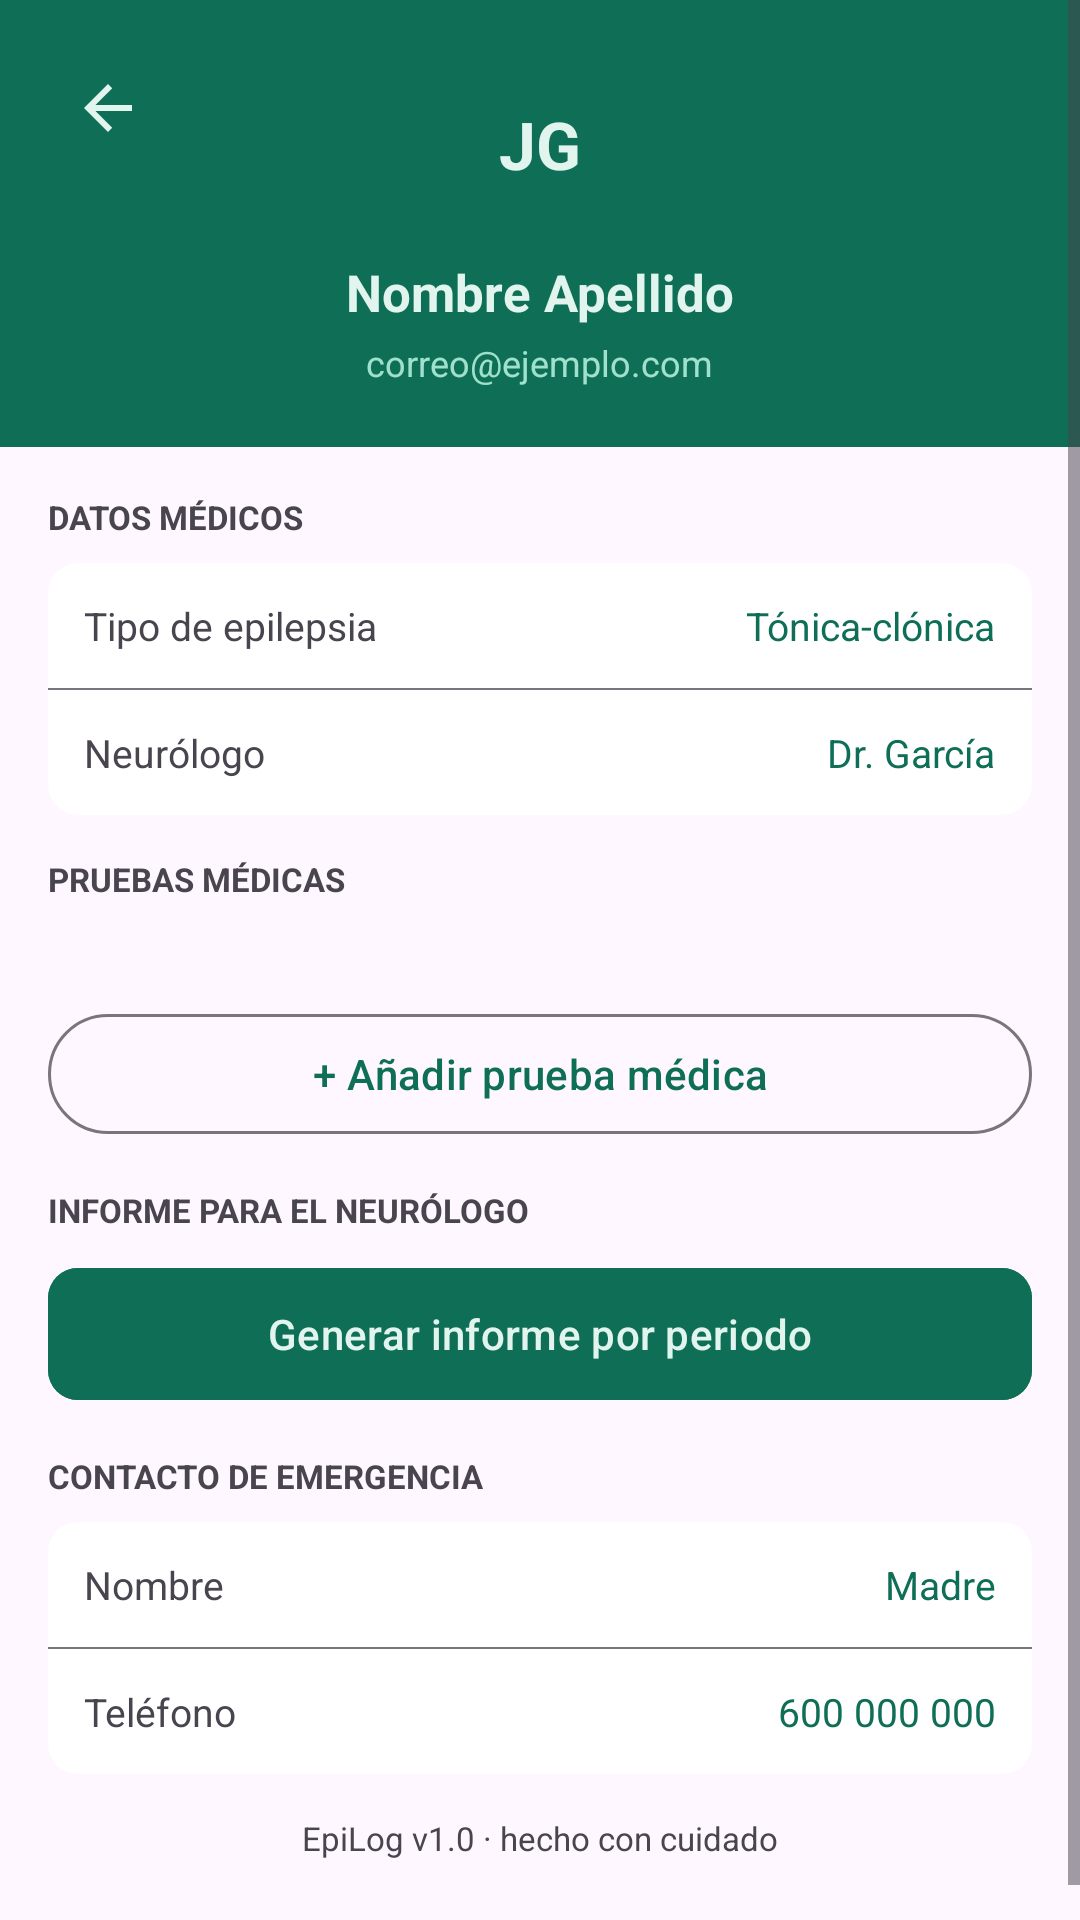

Icon click points for this 1080×1920 phone screenshot, format [x,y]:
Volver: [108,108]
